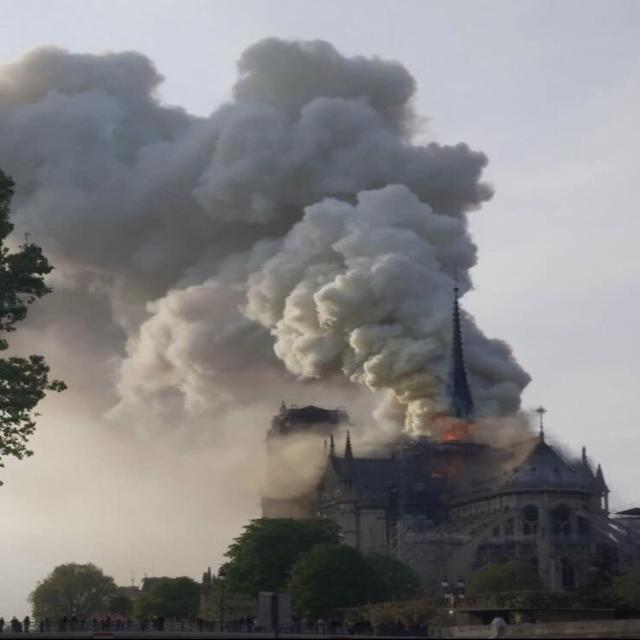Fire: (436, 413, 476, 444)
Smoke: (1, 38, 573, 472), (0, 424, 397, 580)
